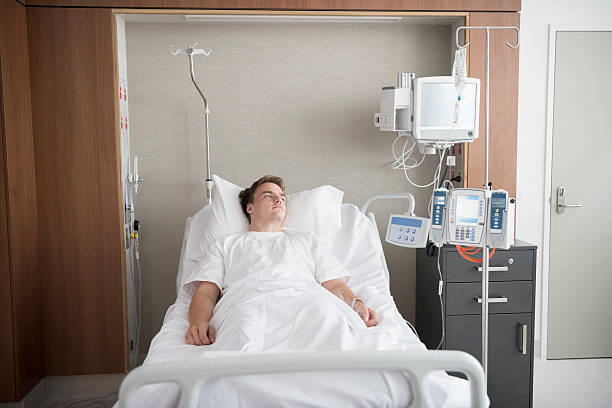bedside_monitor: (412, 76, 480, 146)
bedside_table: (415, 239, 542, 408)
door_handle: (556, 187, 582, 215)
foot_board: (118, 349, 486, 408)
handle: (522, 323, 530, 355), (479, 265, 509, 273), (473, 296, 507, 303)
hospital_bed: (117, 174, 484, 408)
infusion_pump: (429, 180, 516, 253)
iv_pole: (455, 25, 521, 379), (167, 43, 217, 203)
patient: (184, 175, 379, 347)
